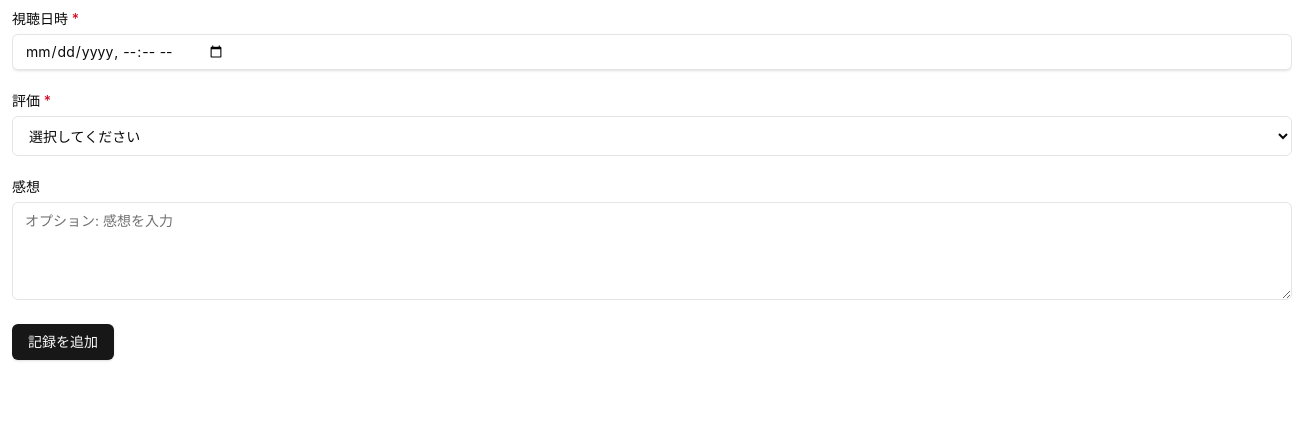
Test case: AddViewingRecordForm › error handling › should display error message when submission fails
The width and height of the screenshot is (1304, 448).
Type "2025-01-20T19:30" into the field labelled "視聴日時 *" at (652, 52), box [12, 34, 1292, 70]
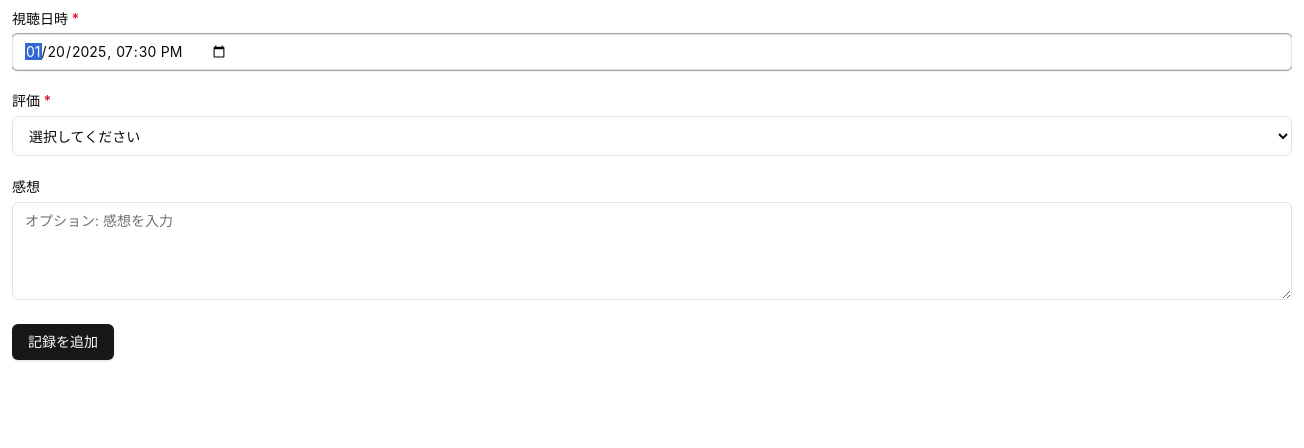
Select "3" in the dropdown labelled "評価 *" at (652, 136), box [12, 116, 1292, 156]
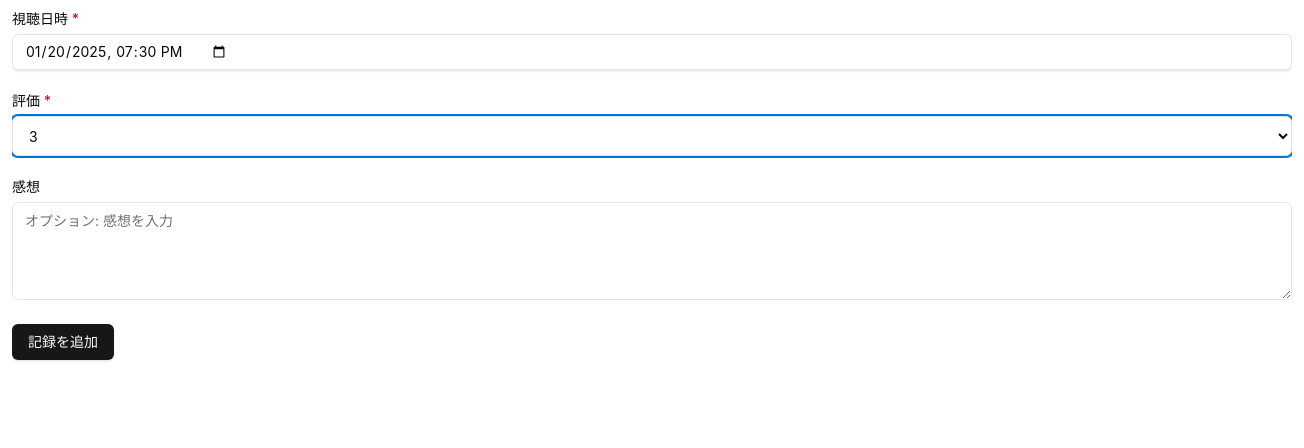
Click the button "記録を追加" at (63, 342), box [12, 324, 114, 360]
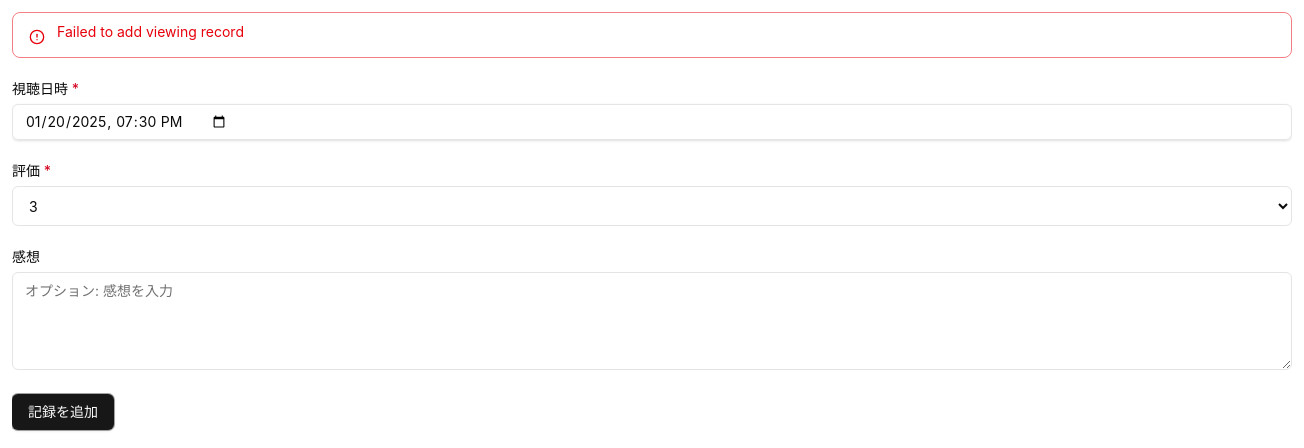
Result: the text "Failed to add viewing record" is shown at [57, 23, 244, 40]
